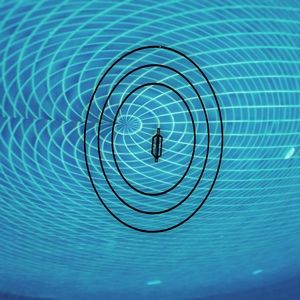circle: (76, 36, 226, 237)
submarine: (147, 128, 163, 162)
